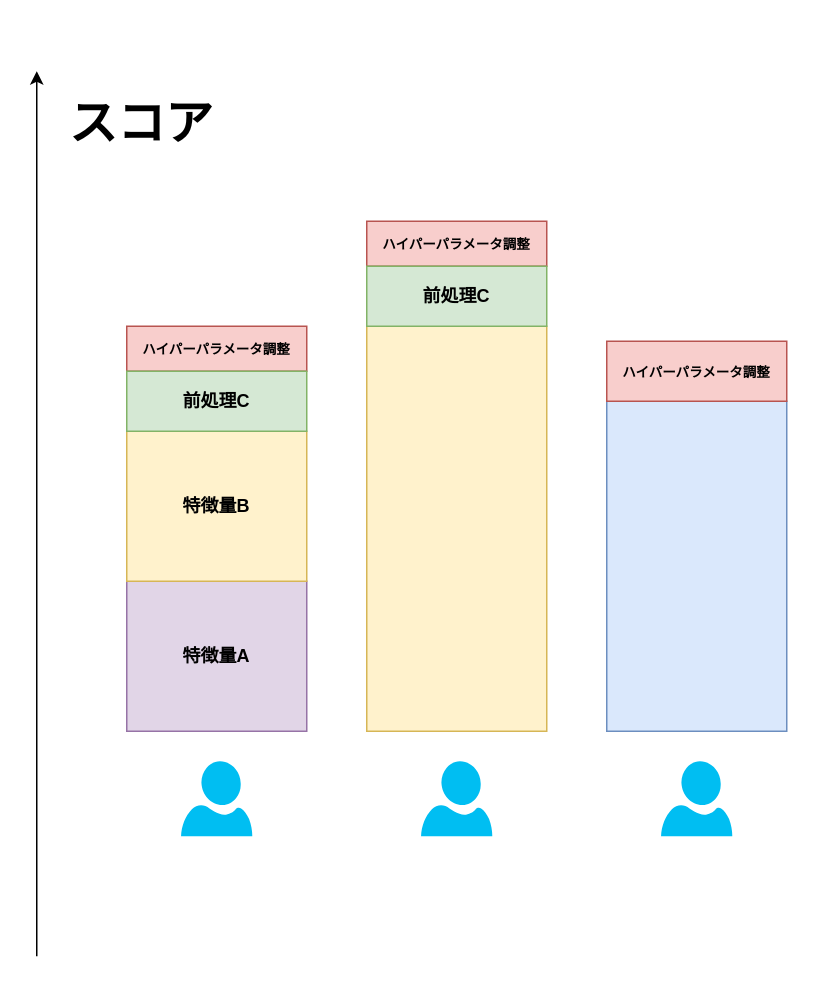
The diagram is 813 pixels wide and 995 high, and some of its shapes have lost their labels. The shapes that lost their labels are listed below. From the top down, each one's centre as x and y in pixels, then its label:
At pixel 456 528: "世界最強の特徴量C".
At pixel 696 565: "革新的なモデルD".
